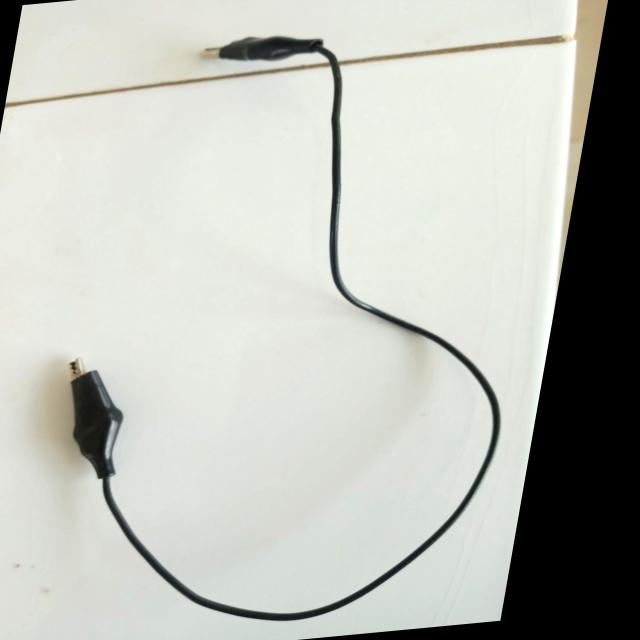BNC Cables Both Clips: (0, 0, 597, 640)
